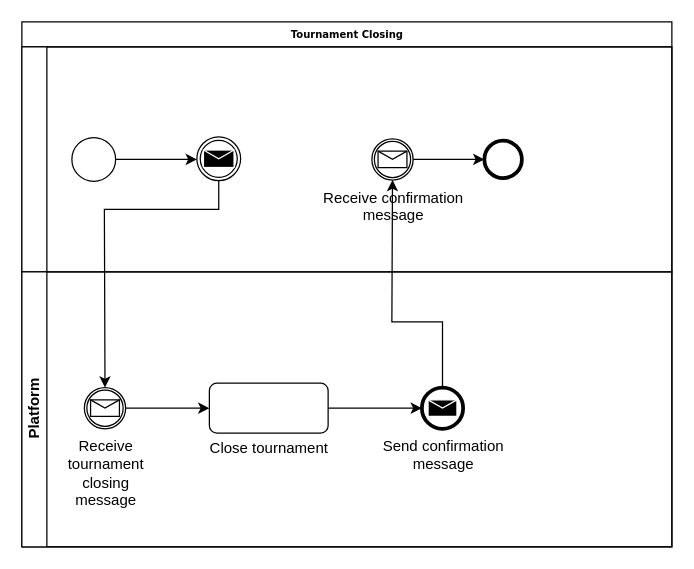
The diagram is 694 pixels wide and 569 high, and some of its shapes have lost their labels. The box of each missing label's shape, as (x1, y1, x2, y2) in pixels:
Educator: (21, 46, 672, 272)
Send tournament closing message: (196, 136, 241, 181)
